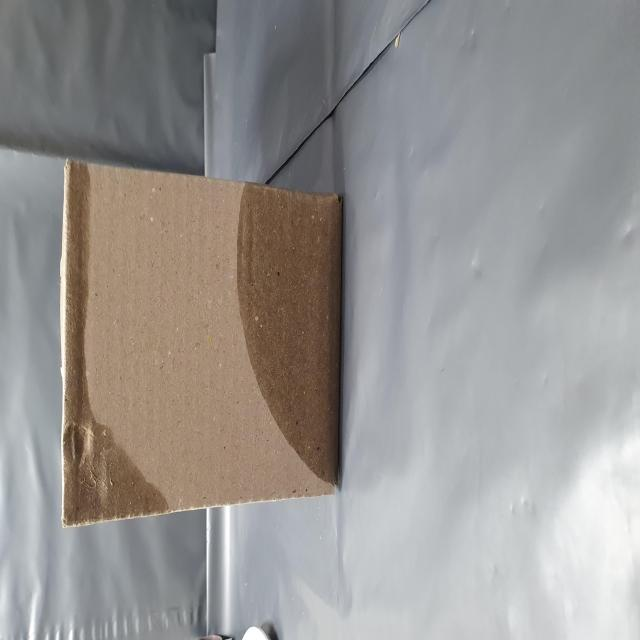wet: (54, 89, 280, 298), (70, 405, 260, 621)
